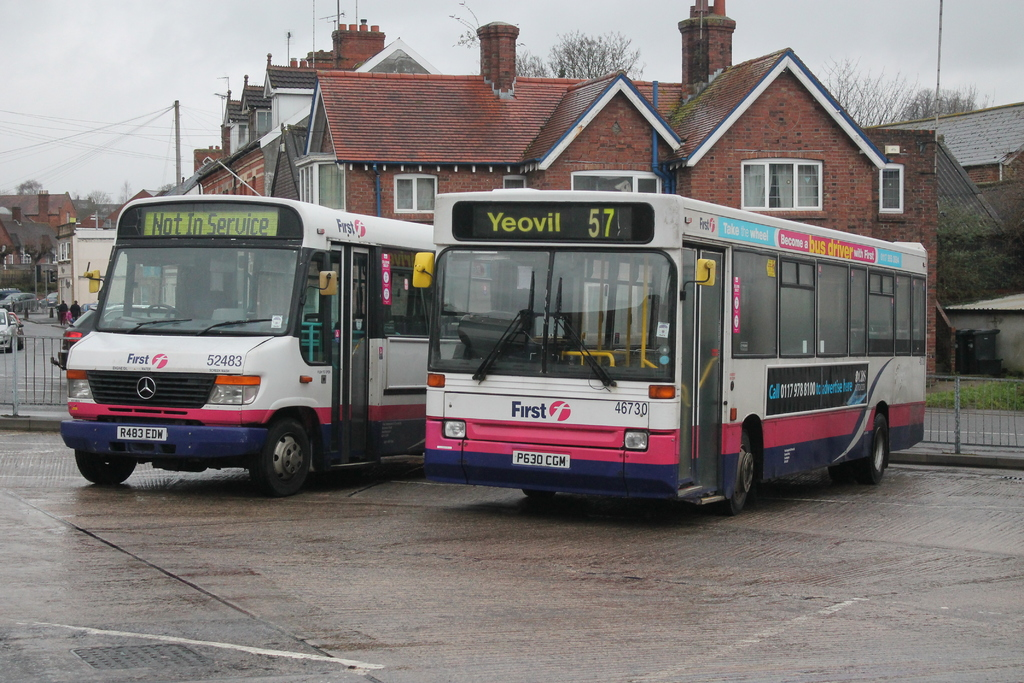Bus: (406, 189, 931, 509), (57, 195, 462, 502)
